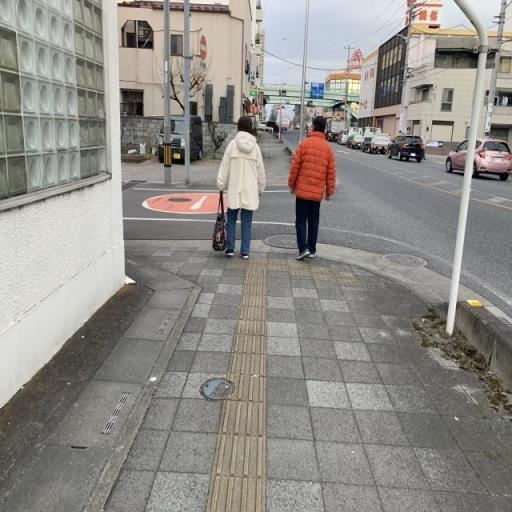line: (211, 435, 265, 481), (205, 474, 265, 511), (219, 400, 266, 438), (227, 373, 267, 400), (228, 353, 266, 375), (231, 334, 267, 355)
